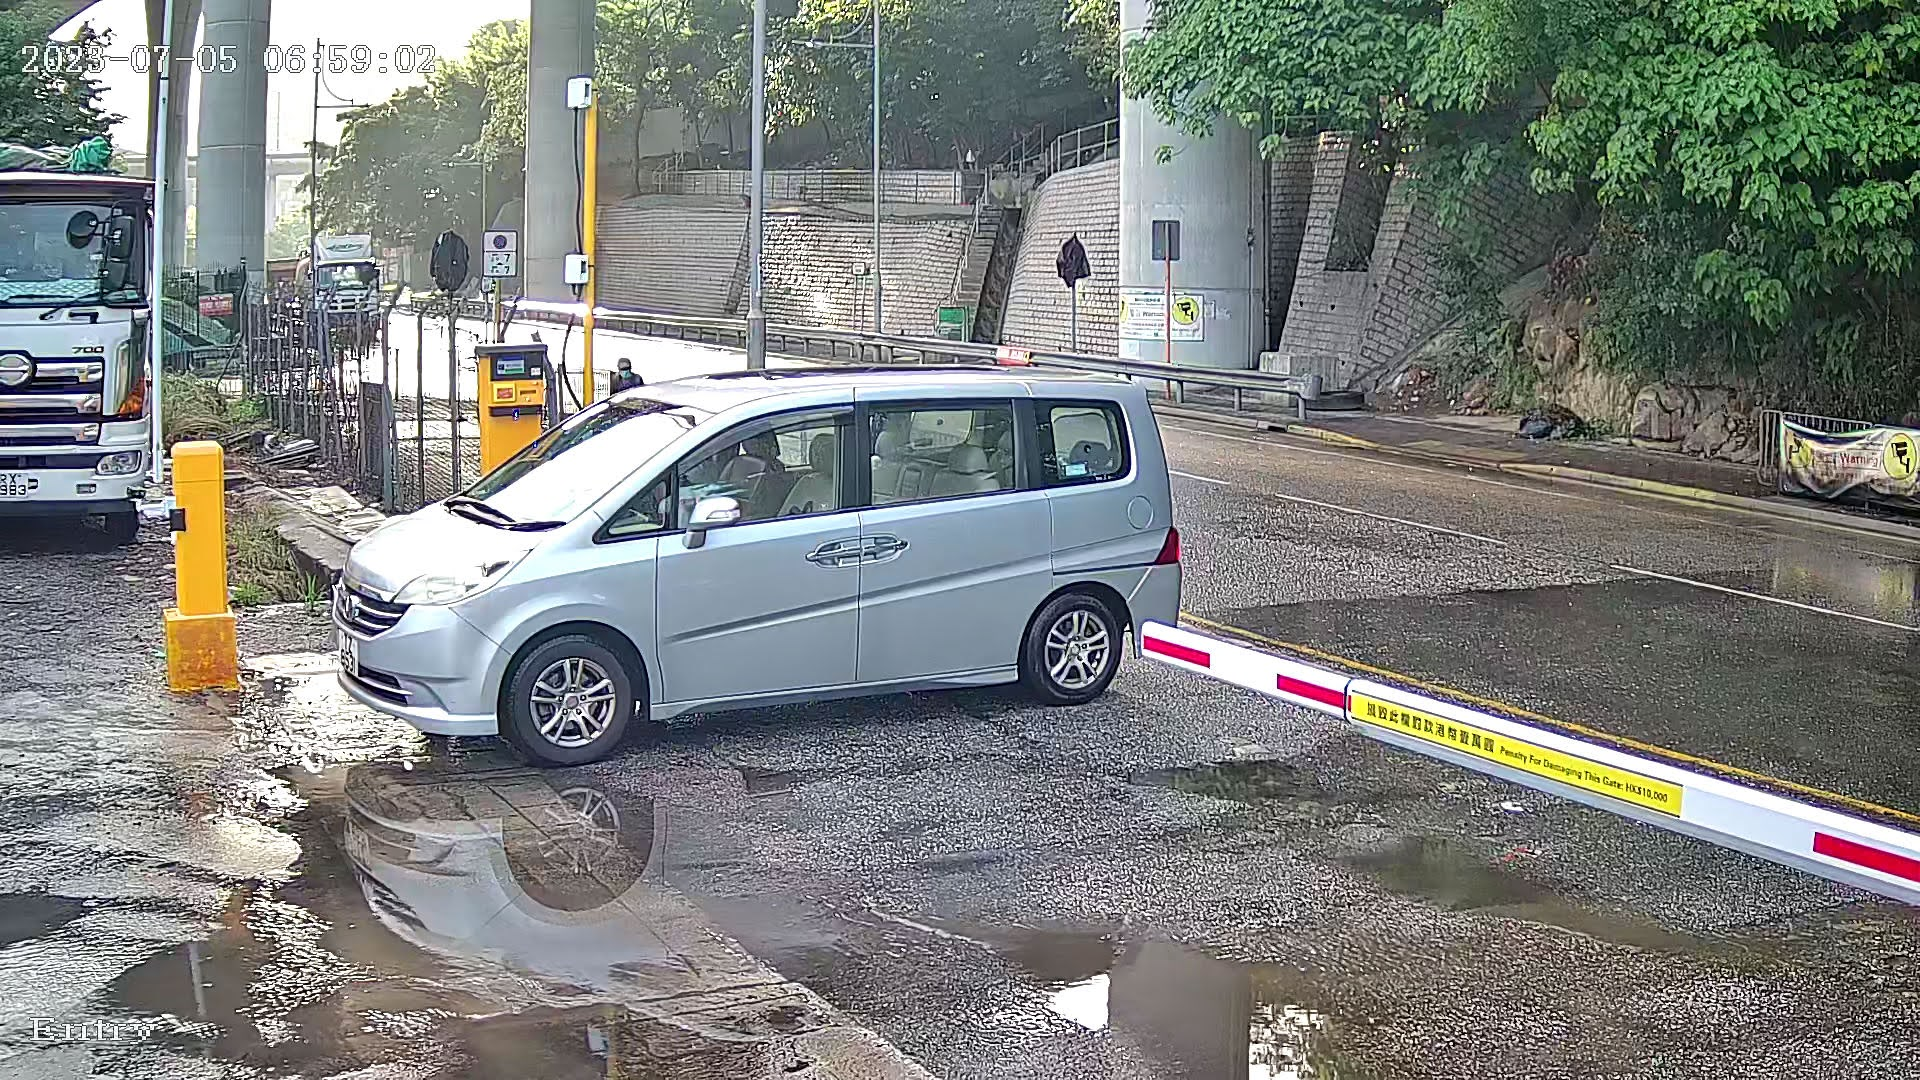privatecar: (313, 326, 1212, 793)
